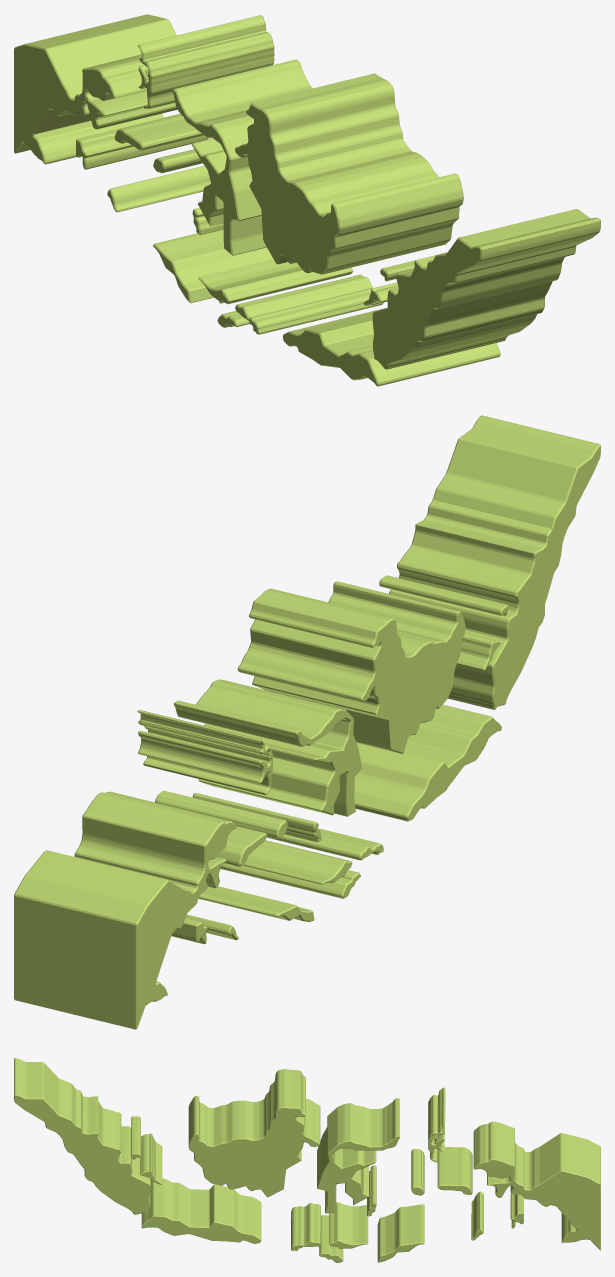
File: Pulau.fbx
3 renders of one model, top to bottom at view 1: azimuth 30°, elevation 25°; view 2: azimuth 150°, elevation 25°; view 3: azimuth 270°, elevation 25°, orthographic. The views are drawn at different scales.
Visible parts, largest first — view 1: Plane; view 2: Plane; view 3: Plane.
Part boxes in pixels (box(x1,y1,x2,y2)): Plane: box(14, 14, 600, 386); Plane: box(14, 415, 600, 1029); Plane: box(14, 1058, 600, 1262).
Bounding box in the file's own units: 130 × 261 × 827.
